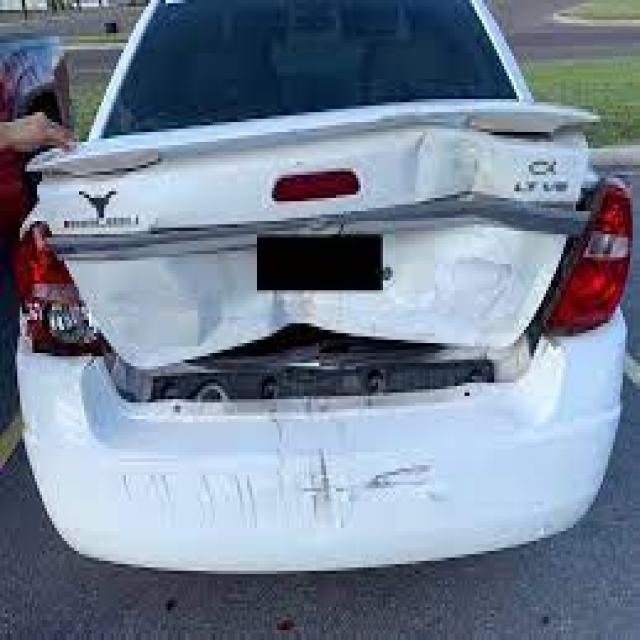damaged-trunk: (28, 99, 604, 368)
